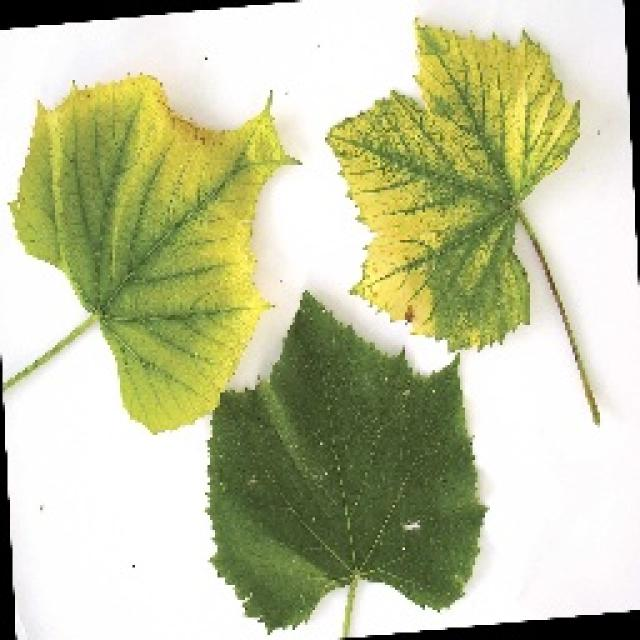Chlorosis: (343, 40, 614, 361), (34, 66, 266, 381)
